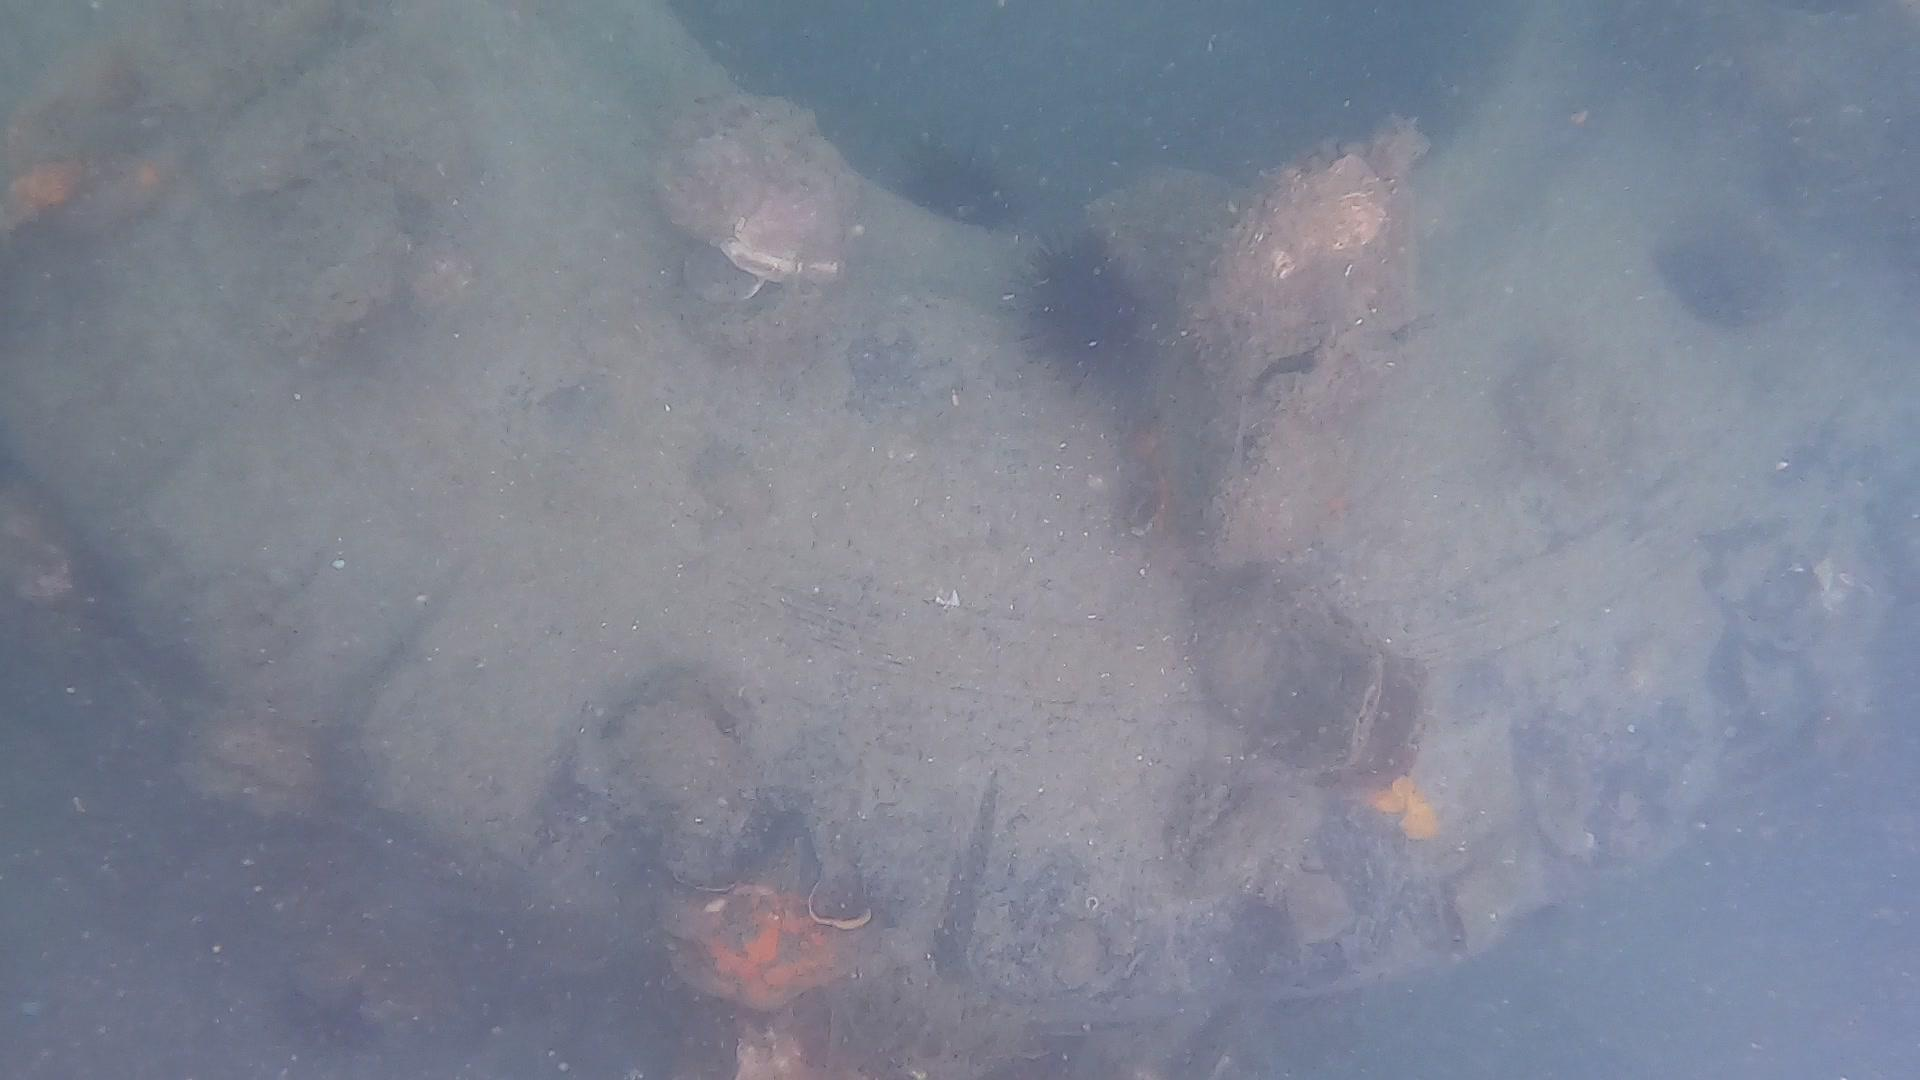tire: (0, 0, 1920, 1022)
